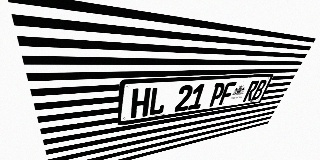1: (188, 84, 207, 110)
2: (174, 85, 194, 112)
B: (251, 80, 268, 101)
F: (218, 82, 237, 105)
H: (130, 87, 151, 119)
L: (148, 86, 168, 116)
P: (208, 82, 226, 107)
R: (242, 80, 260, 102)
